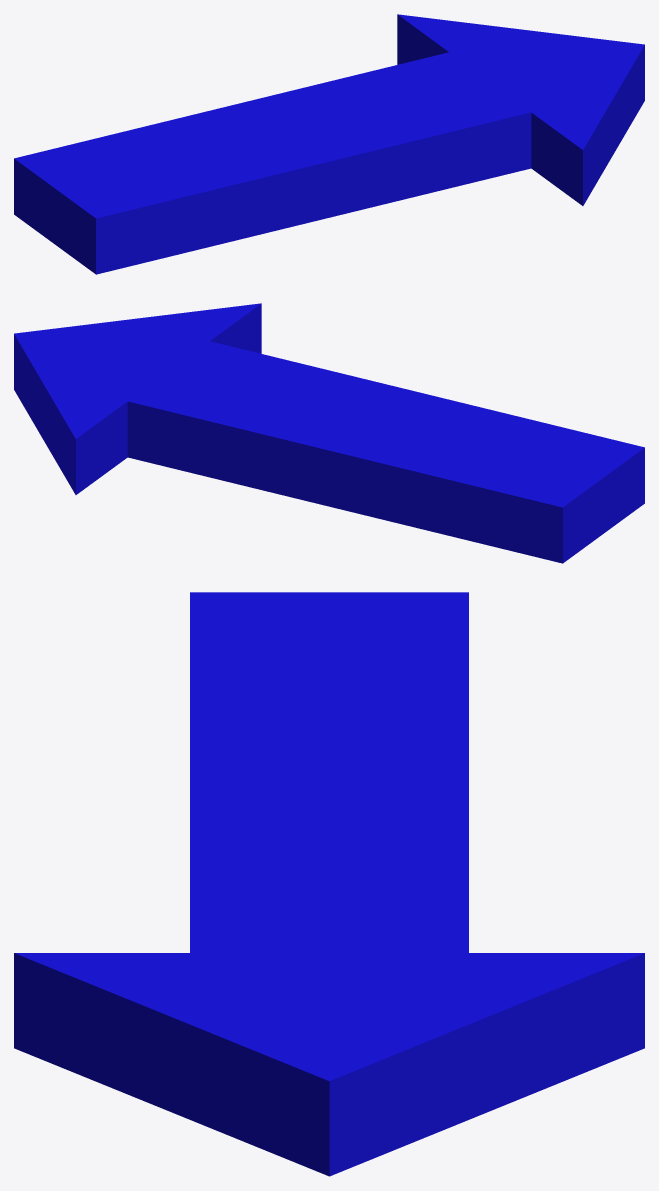
Rendered from arrow3.fbx.
The picture shows the model from 3 angles, top to bottom: view 1: azimuth 30°, elevation 25°; view 2: azimuth 150°, elevation 25°; view 3: azimuth 270°, elevation 25°; orthographic projection. The views are drawn at different scales.
Visible parts, largest first — view 1: 柱体; view 2: 柱体; view 3: 柱体.
Part boxes in pixels (box(x1,y1,x2,y2)): 柱体: box(14, 14, 644, 274); 柱体: box(14, 303, 644, 563); 柱体: box(14, 592, 644, 1176).
Size of the model in its own units: 110 by 10 by 60.
